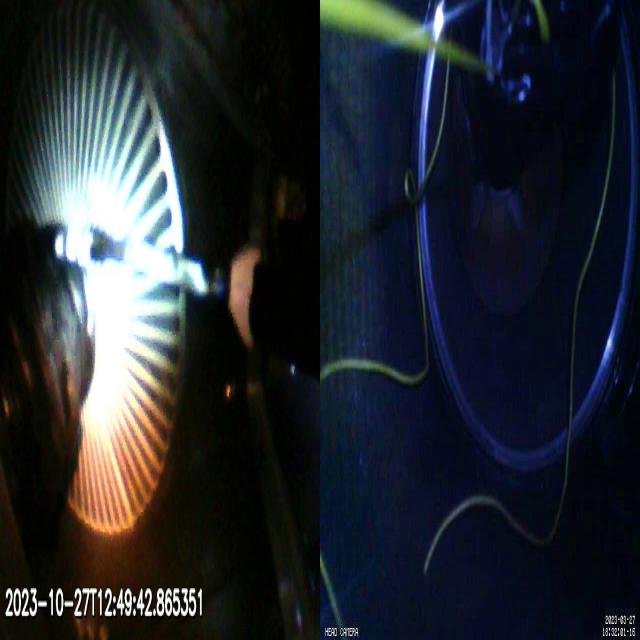head: (231, 245, 265, 339)
